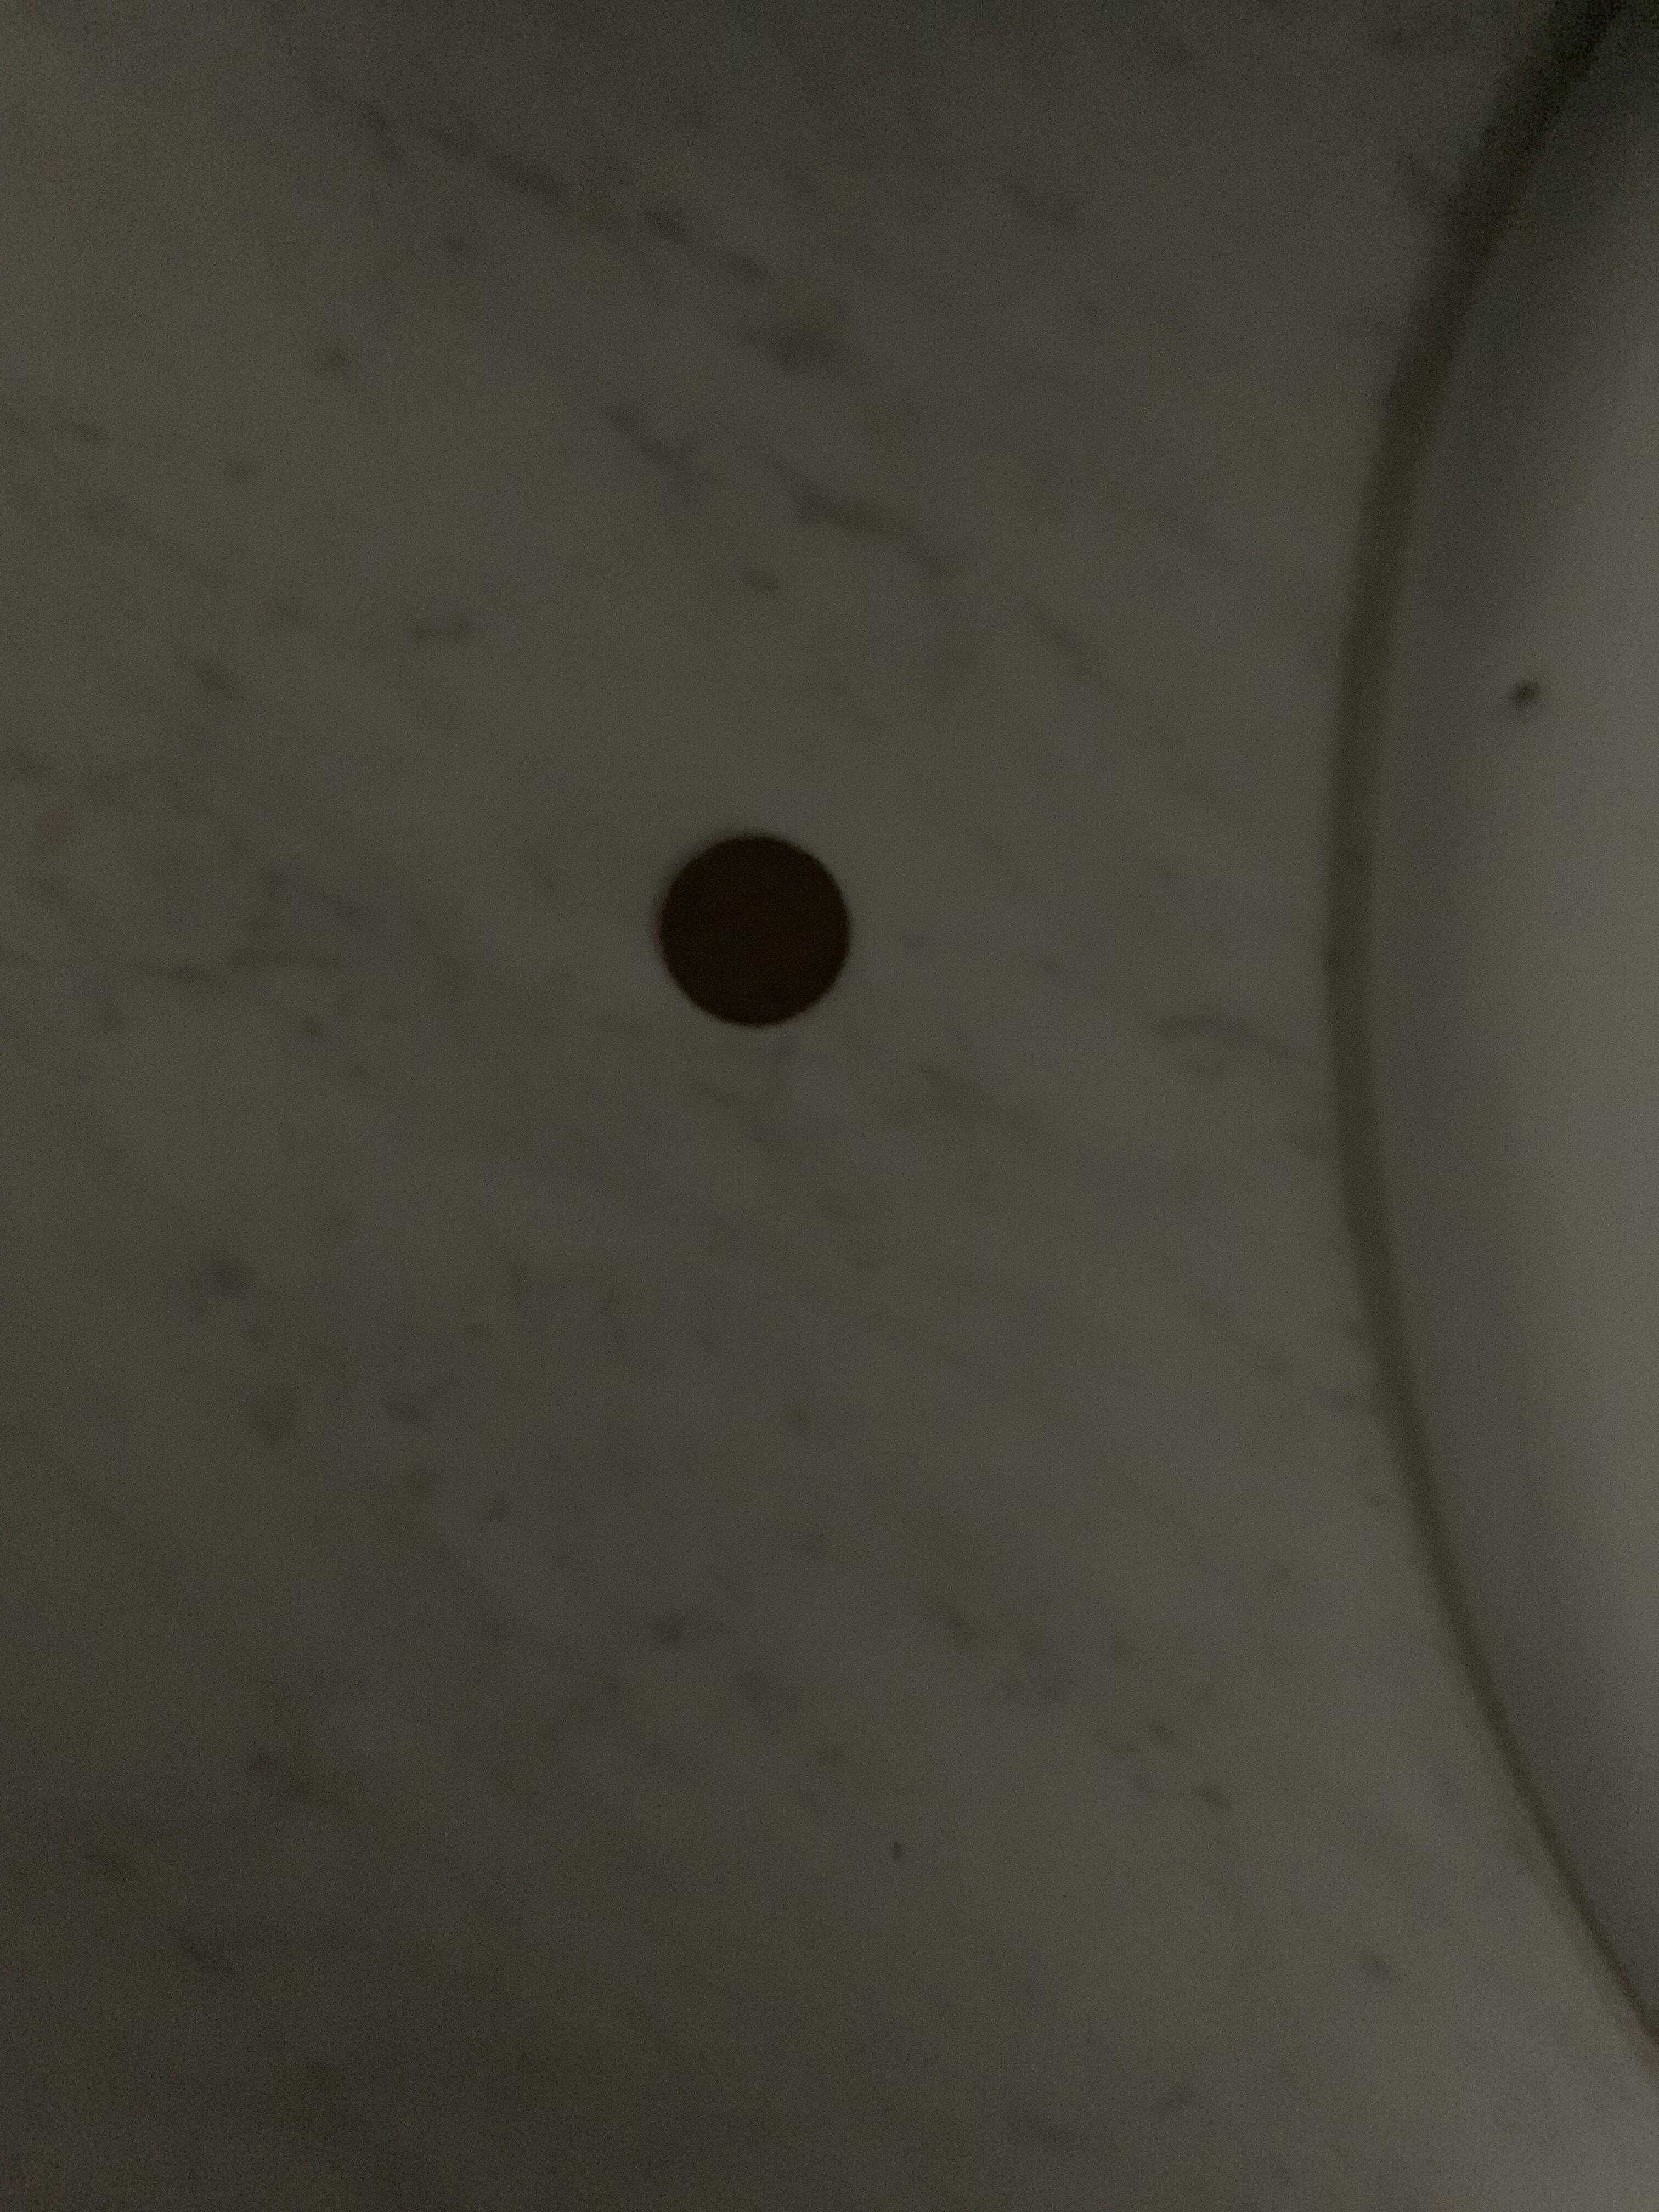Penny: (603, 810, 917, 1055)
